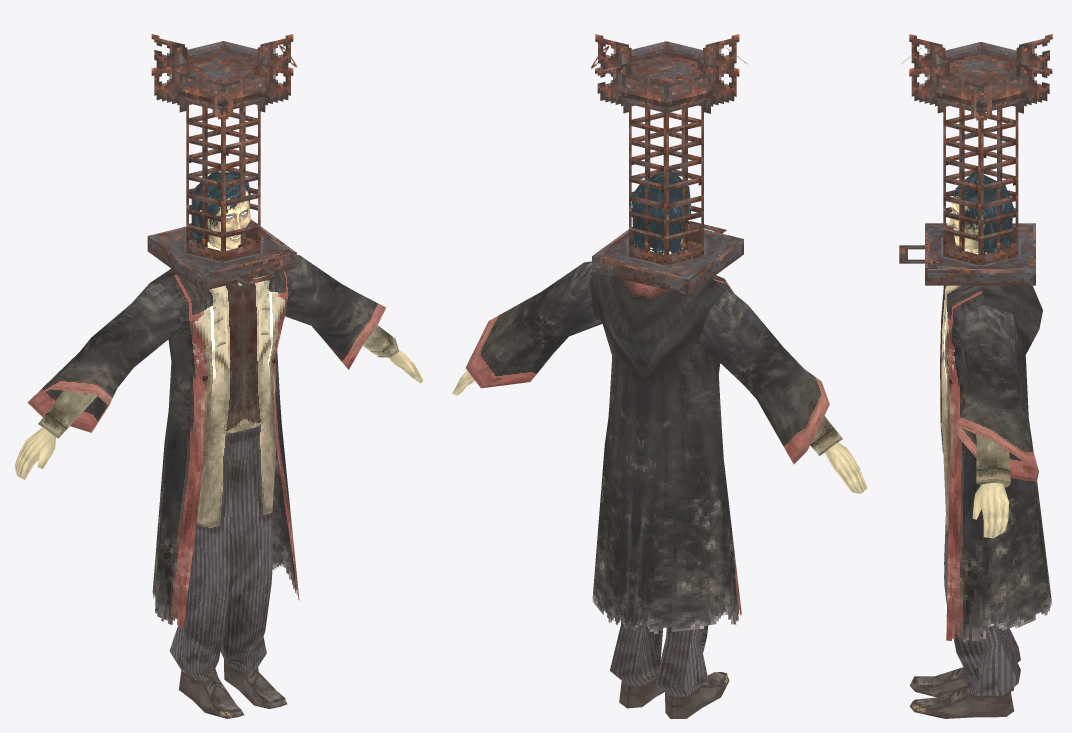
File: micolash.glb
3 renders of one model, left to right at view 1: azimuth 30°, elevation 25°; view 2: azimuth 150°, elevation 25°; view 3: azimuth 270°, elevation 25°, orthographic.
Parts seen in each view (by area): view 1: body, mensiscage, head, Cylinder.002, Cylinder.005, Cylinder.001, Cylinder.003; view 2: body, mensiscage, head, Cylinder.002, Cylinder.006, Cylinder.004, Cylinder.001; view 3: body, mensiscage, head, Cylinder.005, Cylinder.006, Cylinder.004, Cylinder.003, Plane.001.
Boxes of the visible parts, bbox=[...] form: body: bbox=[14, 239, 423, 718]; mensiscage: bbox=[147, 41, 296, 291]; head: bbox=[190, 172, 250, 249]; Cylinder.002: bbox=[151, 63, 187, 112]; Cylinder.005: bbox=[257, 63, 293, 112]; Cylinder.001: bbox=[257, 34, 293, 76]; Cylinder.003: bbox=[151, 34, 187, 76]; body: bbox=[452, 247, 867, 718]; mensiscage: bbox=[592, 41, 743, 294]; head: bbox=[631, 171, 691, 253]; Cylinder.002: bbox=[703, 63, 739, 113]; Cylinder.006: bbox=[595, 63, 631, 113]; Cylinder.004: bbox=[703, 34, 739, 76]; Cylinder.001: bbox=[595, 34, 631, 76]; body: bbox=[909, 249, 1051, 718]; mensiscage: bbox=[899, 42, 1035, 285]; head: bbox=[946, 172, 1013, 253]; Cylinder.005: bbox=[909, 63, 945, 113]; Cylinder.006: bbox=[1016, 63, 1052, 113]; Cylinder.004: bbox=[909, 34, 945, 76]; Cylinder.003: bbox=[1016, 34, 1052, 76]; Plane.001: bbox=[971, 91, 991, 120].
Size of the model in its own units: 1.48 by 2.25 by 0.5083.
1 material, 1 textured.
